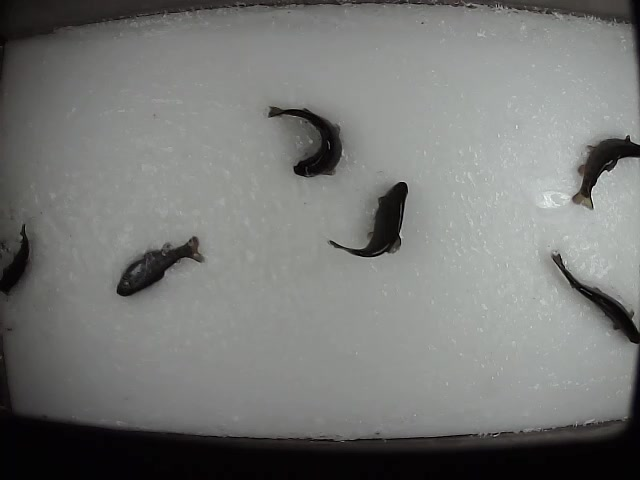fish: (549, 249, 640, 348), (325, 179, 412, 261), (266, 98, 344, 181), (112, 233, 207, 298), (568, 133, 640, 211)
